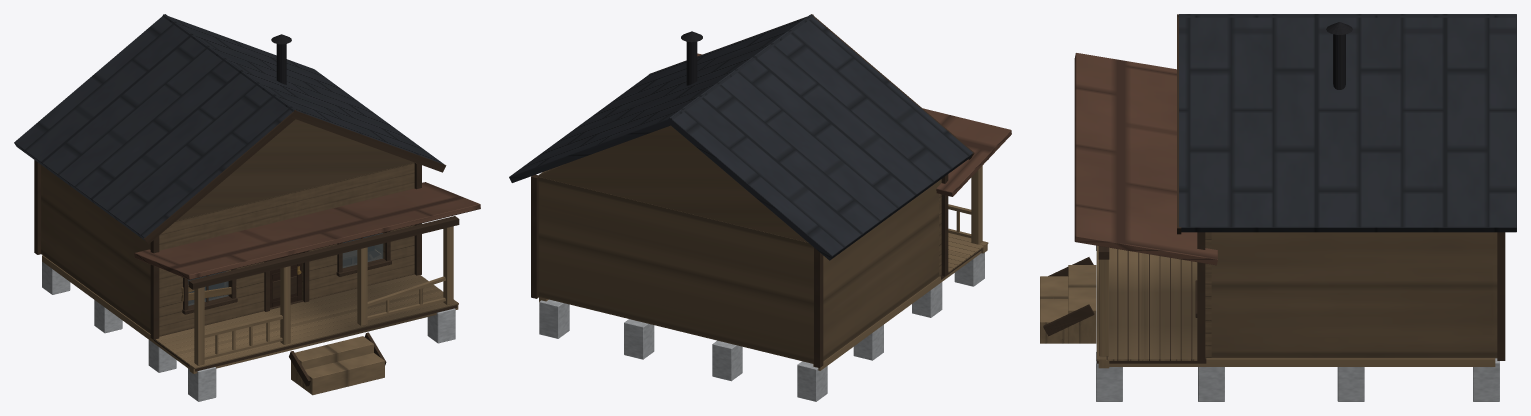
The model's file is House_A_Cabin.fbx.
3 renders of one model, left to right at view 1: azimuth 30°, elevation 25°; view 2: azimuth 150°, elevation 25°; view 3: azimuth 270°, elevation 25°, orthographic. The views are drawn at different scales.
Parts seen in each view (by area): view 1: House_A_Cabin_Exterior, House_A_Cabin_FrontDoor, House_A_Cabin_WindowGlass, House_A_Cabin_Interior; view 2: House_A_Cabin_Exterior; view 3: House_A_Cabin_Exterior.
Boxes of the visible parts, x1,y1,x2,y2 form: House_A_Cabin_Exterior: (14,14,480,401); House_A_Cabin_FrontDoor: (270,252,301,307); House_A_Cabin_WindowGlass: (188,233,383,305); House_A_Cabin_Interior: (188,235,381,303); House_A_Cabin_Exterior: (509,14,1011,401); House_A_Cabin_Exterior: (1040,14,1516,401).
Bounding box in the file's own units: 38.25 × 30.95 × 40.6.
Materials: 2 (1 with a texture image).
